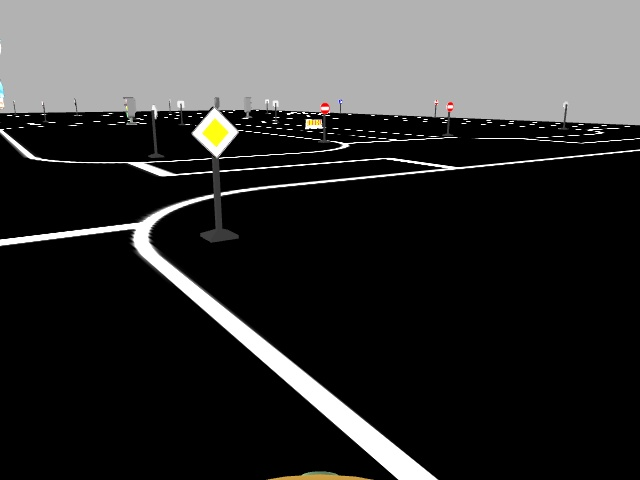ClosedRoadStand: (302, 118, 324, 129)
NoEntry: (318, 100, 329, 116), (443, 100, 454, 111)
Priority: (191, 106, 239, 157)
